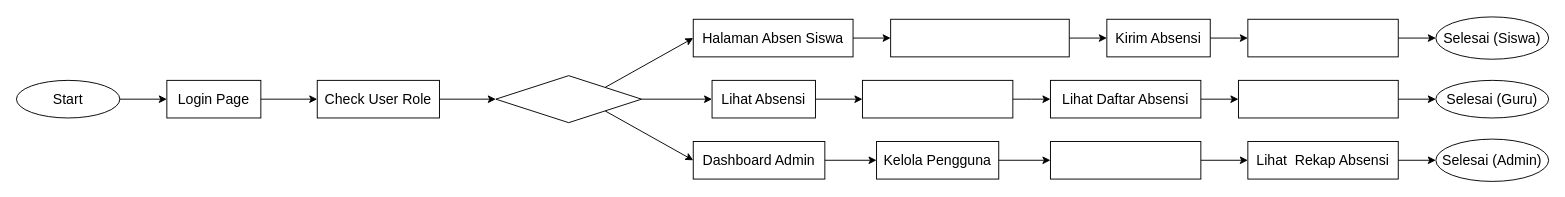
The diagram is 1565 pixels wide and 197 high, and some of its shapes have lost their labels. The shapes that lost their labels are listed below. From the top down, each one's centre as x and y in pixels, then its label:
At [979,37]: "Pilih Hadir/Izin/Sakit/Alpha".
At [1322,37]: "Simpan Ke Database".
At [568,99]: "Role User?".
At [937,98]: "Pilih Kelas & Tanggal".
At [1318,98]: "Verifikasi/Edit Absensi".
At [1125,160]: "Kelola Kelas & Tanggal".
